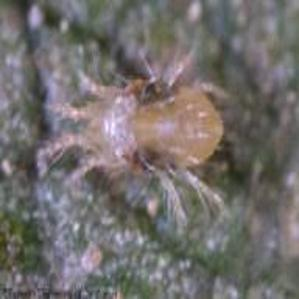spider mite: (44, 49, 248, 235)
